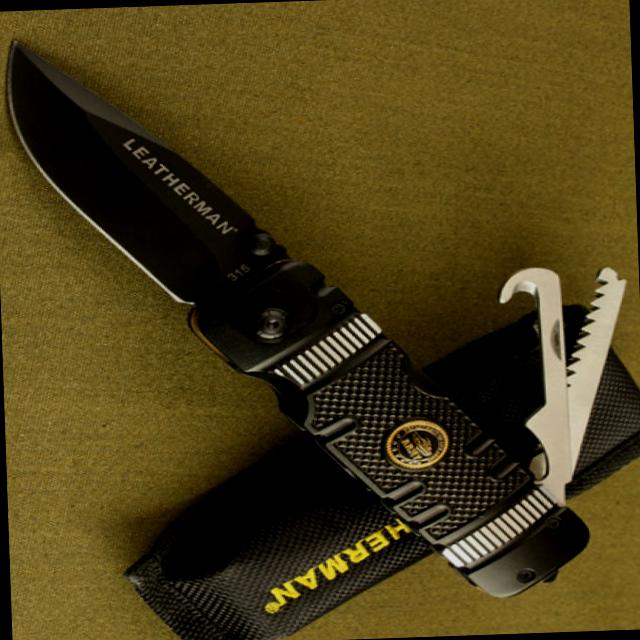knife: (0, 19, 302, 319)
